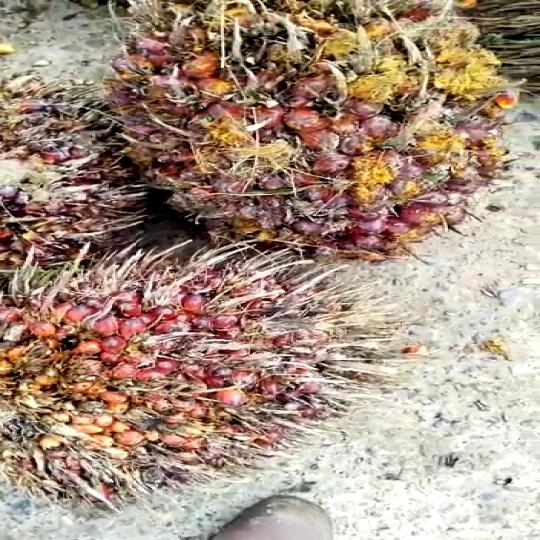masak: (99, 0, 525, 275), (0, 238, 399, 518)
